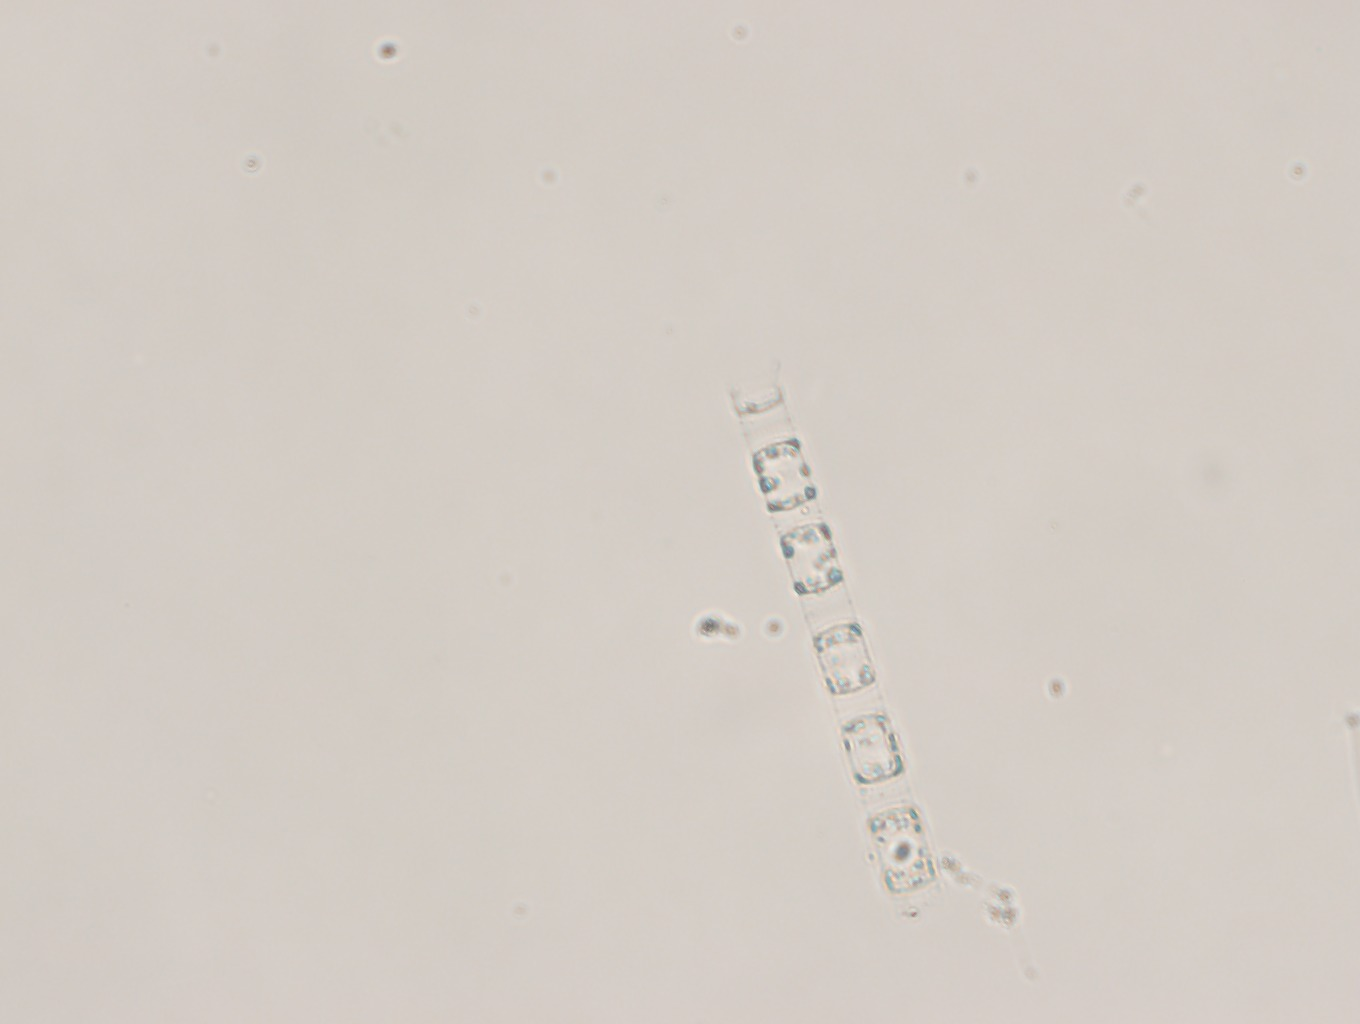skeletonema: (732, 362, 936, 894)
